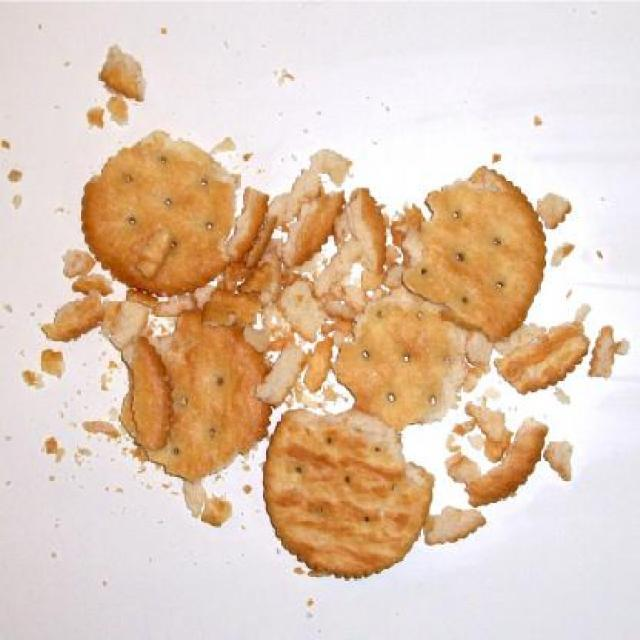Ritz cracker packaged: (22, 53, 626, 590)
